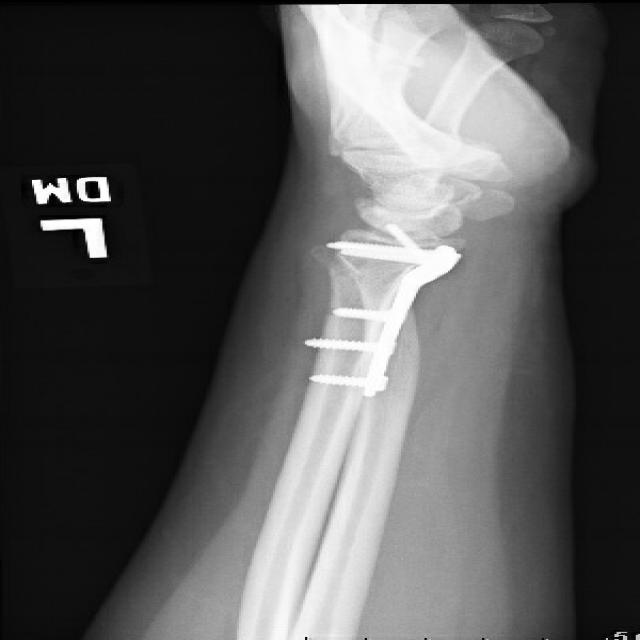x-ray: (297, 222, 484, 408)
